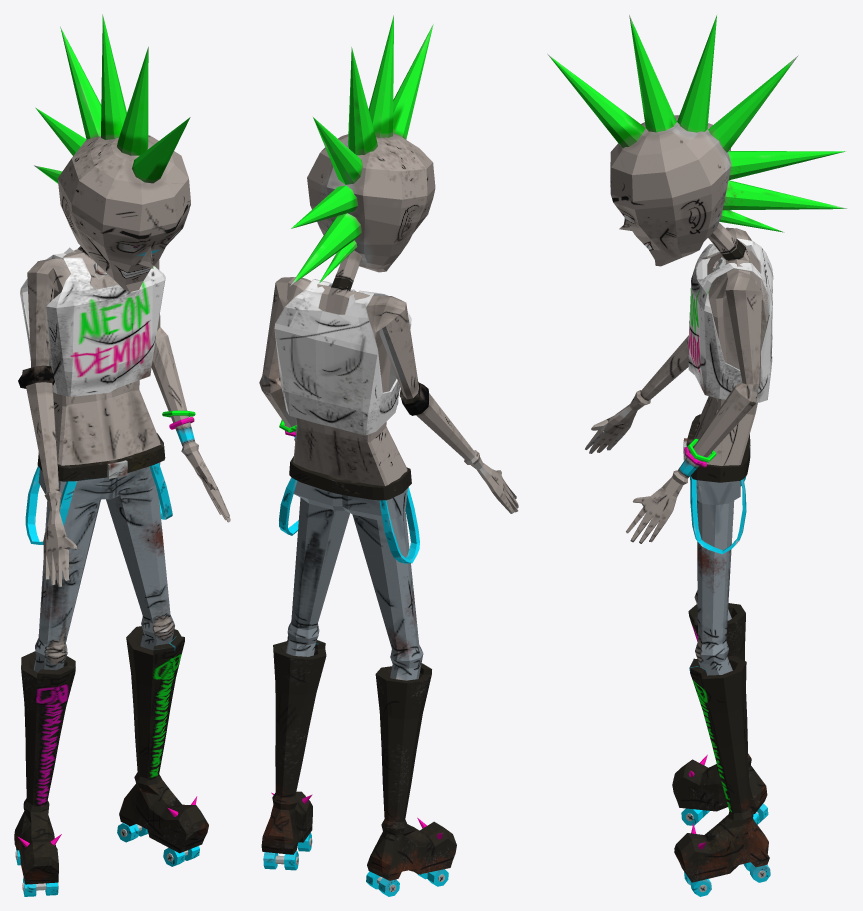
File: punkAnimation_000002.obj
The picture shows the model from 3 angles, left to right: view 1: azimuth 30°, elevation 25°; view 2: azimuth 150°, elevation 25°; view 3: azimuth 270°, elevation 25°; orthographic projection. The views are drawn at different scales.
Visible parts, largest first — view 1: Cube.004_Cube.003; view 2: Cube.004_Cube.003; view 3: Cube.004_Cube.003.
Part boxes in pixels (<box>): Cube.004_Cube.003: <box>14,14,230,896</box>; Cube.004_Cube.003: <box>259,15,518,896</box>; Cube.004_Cube.003: <box>547,15,847,896</box>.
Bounding box in the file's own units: 1.86 × 7.53 × 2.44.
